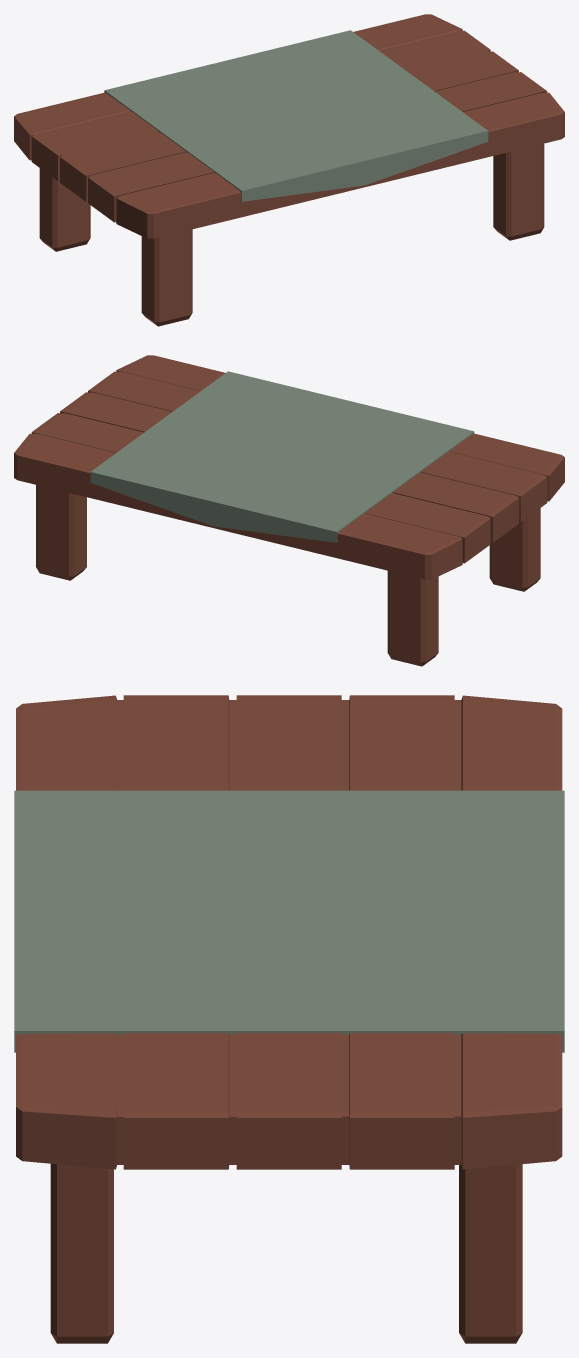
The model's file is Kitchen_Table.fbx.
3 renders of one model, top to bottom at view 1: azimuth 30°, elevation 25°; view 2: azimuth 150°, elevation 25°; view 3: azimuth 270°, elevation 25°, orthographic. The views are drawn at different scales.
Parts seen in each view (by area): view 1: Kitchen_Table.001, Kitchen_Table; view 2: Kitchen_Table.001, Kitchen_Table; view 3: Kitchen_Table.001, Kitchen_Table.
Boxes of the visible parts, x1,y1,x2,y2 form: Kitchen_Table.001: (14, 14, 564, 326); Kitchen_Table: (104, 30, 488, 201); Kitchen_Table.001: (14, 355, 564, 666); Kitchen_Table: (90, 371, 474, 542); Kitchen_Table.001: (16, 695, 562, 1343); Kitchen_Table: (14, 790, 564, 1052).
Bounding box in the file's own units: 125 × 63.04 × 227.
